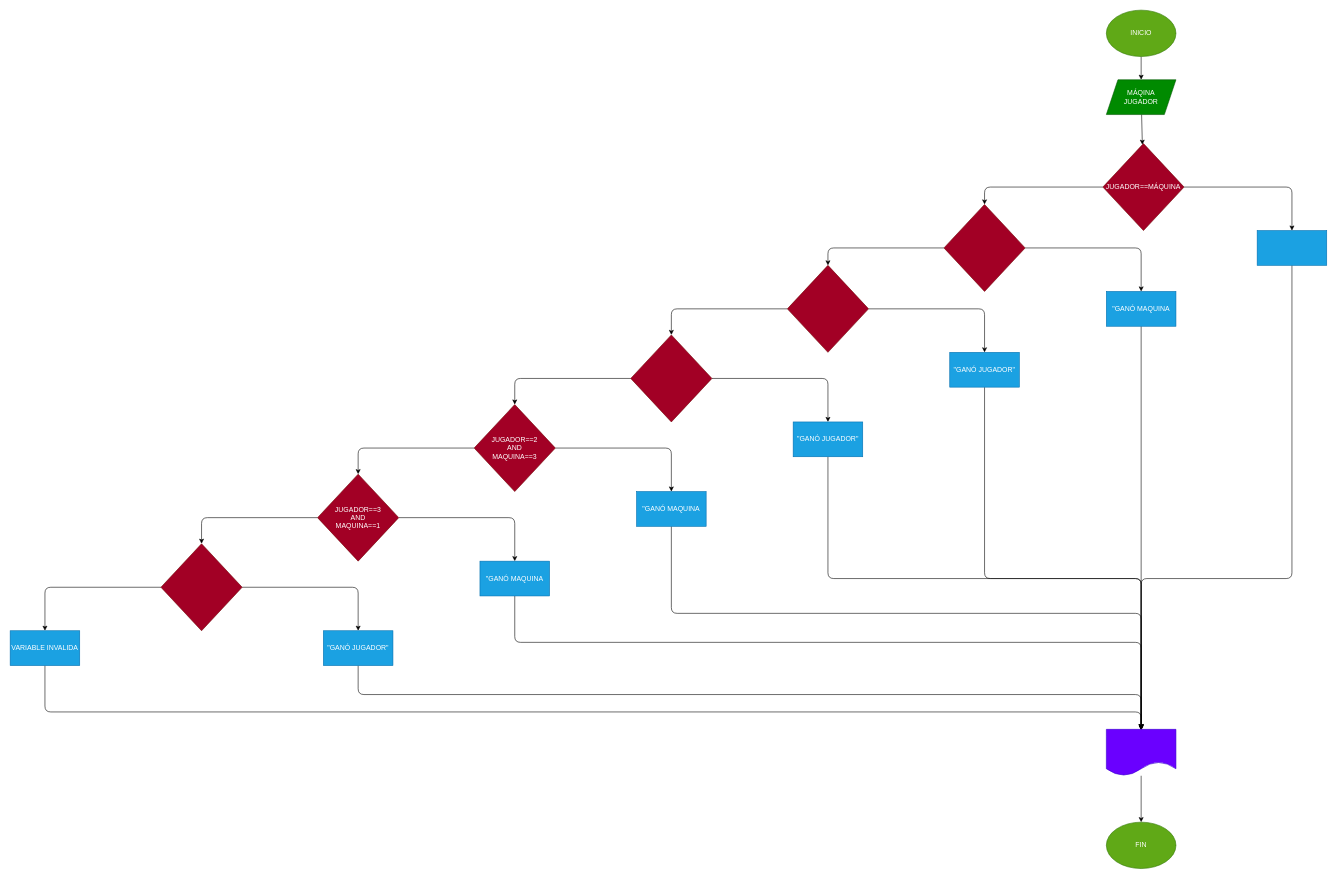
Some shapes in this 1337 by 879 pixel diagram are drawn without their labels. The shapes that lost their labels are listed below. From the top down, each one's centre as x and y in pixels, then its label:
(984,247): JUGADOR==1 AND MAQUINA==2
(1292,247): "EMPATE"
(828,308): JUGADOR==1 AND MAQUINA==3
(671,378): JUGADOR==2 AND MAQUINA==1
(201,587): JUGADOR==3 AND MAQUINA==2
(1141,752): RTA
